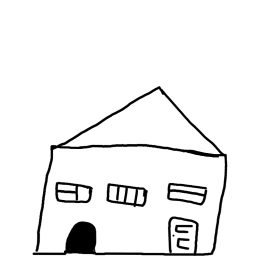bottom_placed_house: (1, 1, 260, 260)
closed_window: (102, 178, 152, 211), (160, 178, 212, 209), (53, 174, 94, 211)
door: (160, 212, 205, 260), (61, 217, 105, 260)
roof: (36, 82, 238, 163)
wall: (29, 137, 233, 260)
